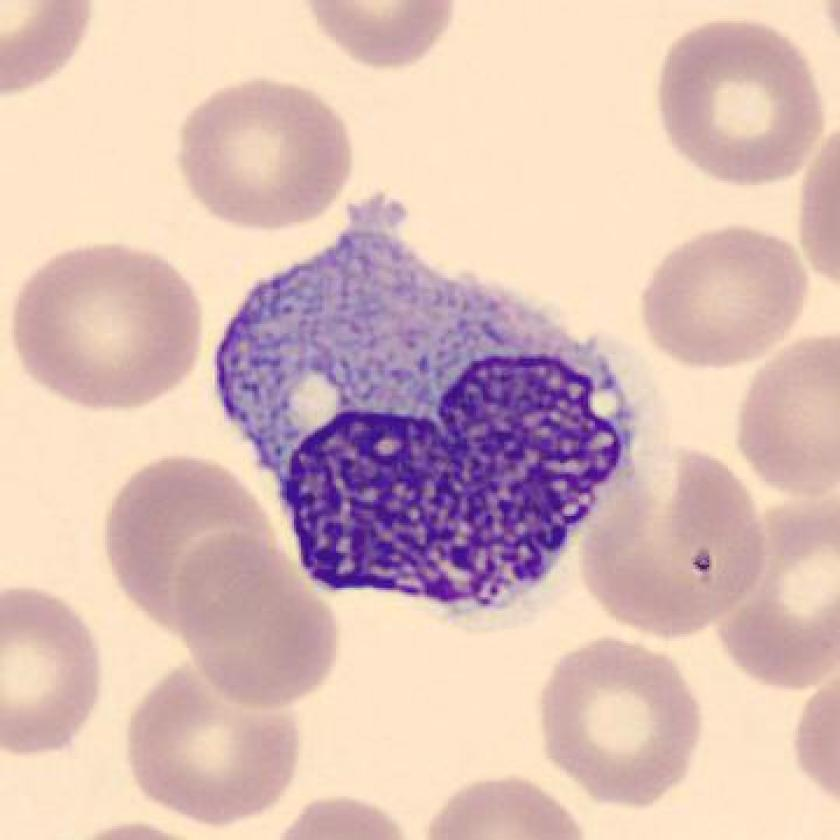monocyte: (192, 172, 666, 635)
